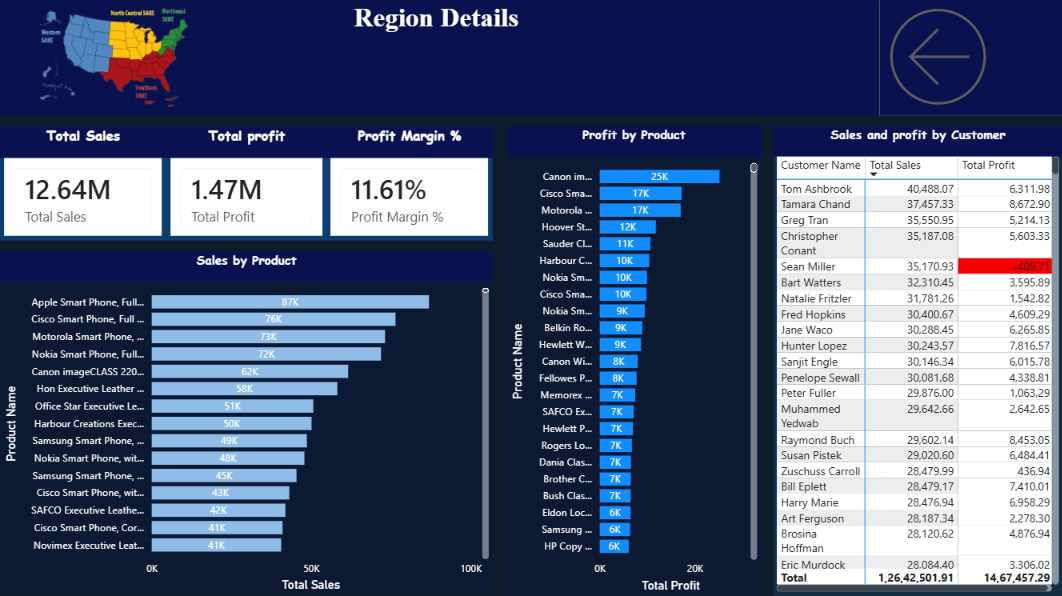

This screenshot's page, from the dashboard's own definition file:
{"tool":"powerbi","page":{"name":"Region Details","canvas":[1280,720],"ordinal":1},"visuals":[{"type":"actionButton","box":[1058.7,0,221.1,141],"z":0},{"type":"pivotTable","title":"Sales and profit by Customer","fields":{"Rows":["Orders.Customer Name"],"Values":["Orders.Total Sales","Orders.Total Profit"]},"box":[929.9,153.2,350,565.9],"z":1000},{"type":"clusteredBarChart","title":"Sales by Product","fields":{"Y":["Orders.Total Sales"],"Category":["Orders.Product Name"]},"box":[0,304.7,593.8,414.4],"z":2000},{"type":"clusteredBarChart","title":"Profit by Product ","fields":{"Y":["Orders.Total Profit"],"Category":["Orders.Product Name"]},"box":[611.2,153.2,306.5,565.9],"z":3000},{"type":"textbox","box":[0,0,1058.7,141],"z":4000},{"type":"image","box":[0,0,275.2,140.3],"z":5000},{"type":"cardVisual","title":"Total Sales","fields":{"Data":["Orders.Total Sales"]},"box":[0,153.2,200.2,137.6],"z":6000},{"type":"cardVisual","title":"Total profit","fields":{"Data":["Orders.Total Profit"]},"box":[200.2,153.2,193.3,137.6],"z":7000},{"type":"cardVisual","title":"Profit Margin %","fields":{"Data":["Orders.Profit Margin %"]},"box":[393.5,153.2,200.2,137.6],"z":8000}]}

Visuals, with their boxes in screenshot pixels (x1, y1, x2, y2), scaled from the page's 1280x720 canvas onto the 1062x596 screenshot:
actionButton: 878,0,1061,117
"Sales and profit by Customer" pivotTable: 772,127,1061,595
"Sales by Product" clusteredBarChart: 0,252,493,595
"Profit by Product " clusteredBarChart: 507,127,761,595
textbox: 0,0,878,117
image: 0,0,228,116
"Total Sales" cardVisual: 0,127,166,241
"Total profit" cardVisual: 166,127,326,241
"Profit Margin %" cardVisual: 326,127,493,241
